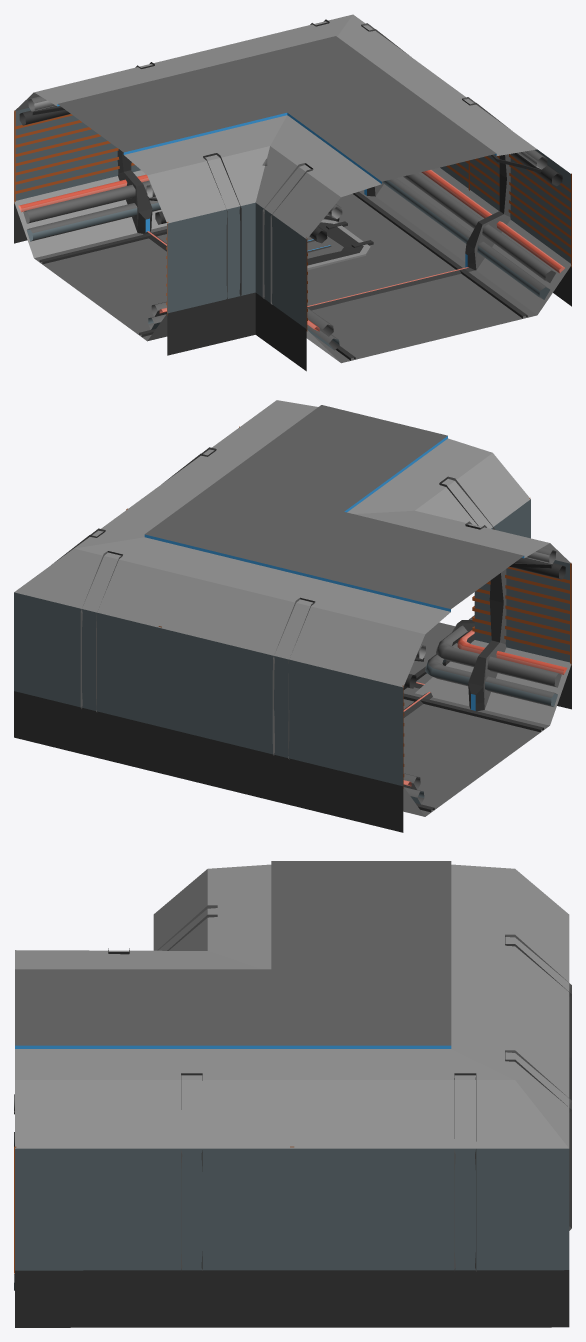
File: Corner_SciFi_Tunnel.fbx
The picture shows the model from 3 angles, top to bottom: view 1: azimuth 30°, elevation 25°; view 2: azimuth 150°, elevation 25°; view 3: azimuth 270°, elevation 25°; orthographic projection. The views are drawn at different scales.
Parts seen in each view (by area): view 1: Corner_SciFi_Tunnel, Corner_SciFi_Tunnel_Ceiling, Corner_SciFi_Tunnel_South, Corner_SciFi_Tunnel_West, Corner_SciFi_Tunnel_North, Corner_SciFi_Tunnel_East; view 2: Corner_SciFi_Tunnel_North, Corner_SciFi_Tunnel_Ceiling, Corner_SciFi_Tunnel, Corner_SciFi_Tunnel_South, Corner_SciFi_Tunnel_West; view 3: Corner_SciFi_Tunnel_East, Corner_SciFi_Tunnel_Ceiling, Corner_SciFi_Tunnel, Corner_SciFi_Tunnel_North, Corner_SciFi_Tunnel_South.
Boxes of the visible parts, x1=… form: Corner_SciFi_Tunnel: x1=14, y1=167, x2=571, y2=371; Corner_SciFi_Tunnel_Ceiling: x1=34, y1=14, x2=536, y2=197; Corner_SciFi_Tunnel_South: x1=146, y1=146, x2=269, y2=315; Corner_SciFi_Tunnel_West: x1=255, y1=146, x2=342, y2=331; Corner_SciFi_Tunnel_North: x1=14, y1=19, x2=329, y2=233; Corner_SciFi_Tunnel_East: x1=361, y1=23, x2=571, y2=270; Corner_SciFi_Tunnel_North: x1=14, y1=548, x2=425, y2=788; Corner_SciFi_Tunnel_Ceiling: x1=74, y1=400, x2=549, y2=634; Corner_SciFi_Tunnel: x1=14, y1=615, x2=571, y2=832; Corner_SciFi_Tunnel_South: x1=465, y1=521, x2=571, y2=711; Corner_SciFi_Tunnel_West: x1=415, y1=453, x2=530, y2=665; Corner_SciFi_Tunnel_East: x1=14, y1=1073, x2=569, y2=1273; Corner_SciFi_Tunnel_Ceiling: x1=15, y1=861, x2=515, y2=1079; Corner_SciFi_Tunnel: x1=14, y1=1270, x2=569, y2=1327; Corner_SciFi_Tunnel_North: x1=505, y1=869, x2=571, y2=1230; Corner_SciFi_Tunnel_South: x1=153, y1=869, x2=217, y2=950.
Bounding box in the file's own units: 804 × 372 × 806.
